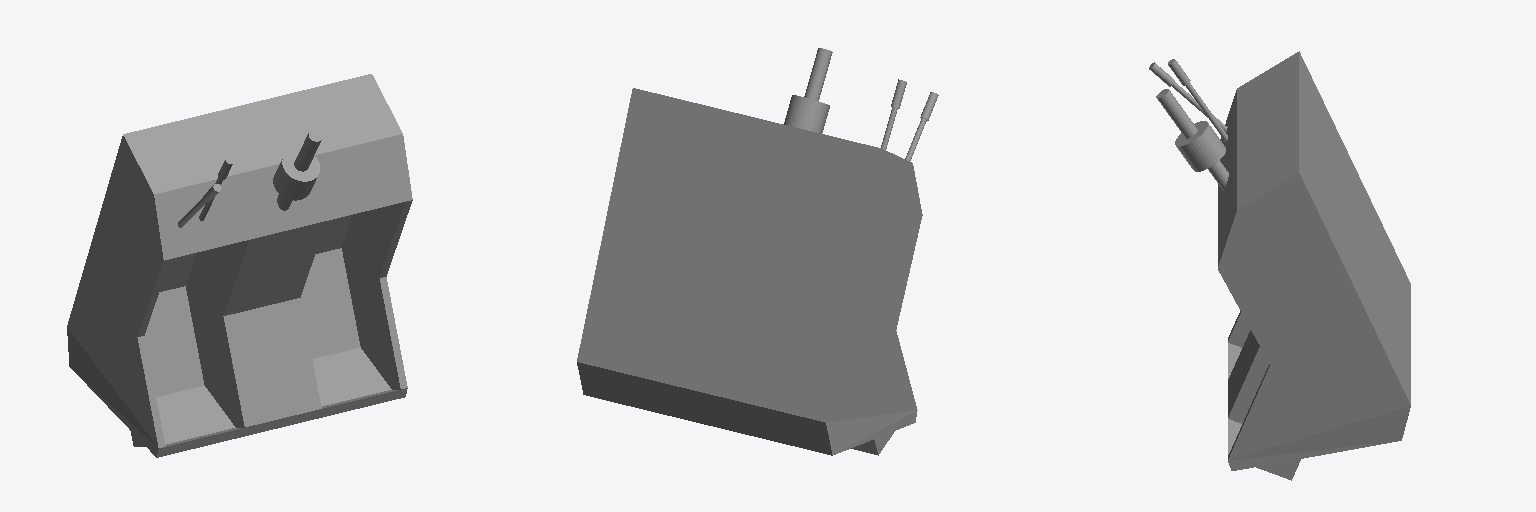
The model's file is stapler_amatur.obj.
The picture shows the model from 3 angles: view 1: azimuth 30°, elevation 25°; view 2: azimuth 150°, elevation 25°; view 3: azimuth 270°, elevation 25°; orthographic projection.
Parts seen in each view (by area): view 1: steuerpult_Cylinder.3; view 2: steuerpult_Cylinder.3; view 3: steuerpult_Cylinder.3.
Part boxes in pixels (left/top/right/bottom): steuerpult_Cylinder.3: left=67, top=74, right=412, bottom=457; steuerpult_Cylinder.3: left=577, top=48, right=938, bottom=455; steuerpult_Cylinder.3: left=1149, top=51, right=1410, bottom=480.
Bounding box in the file's own units: 3.52 × 4.47 × 3.19.